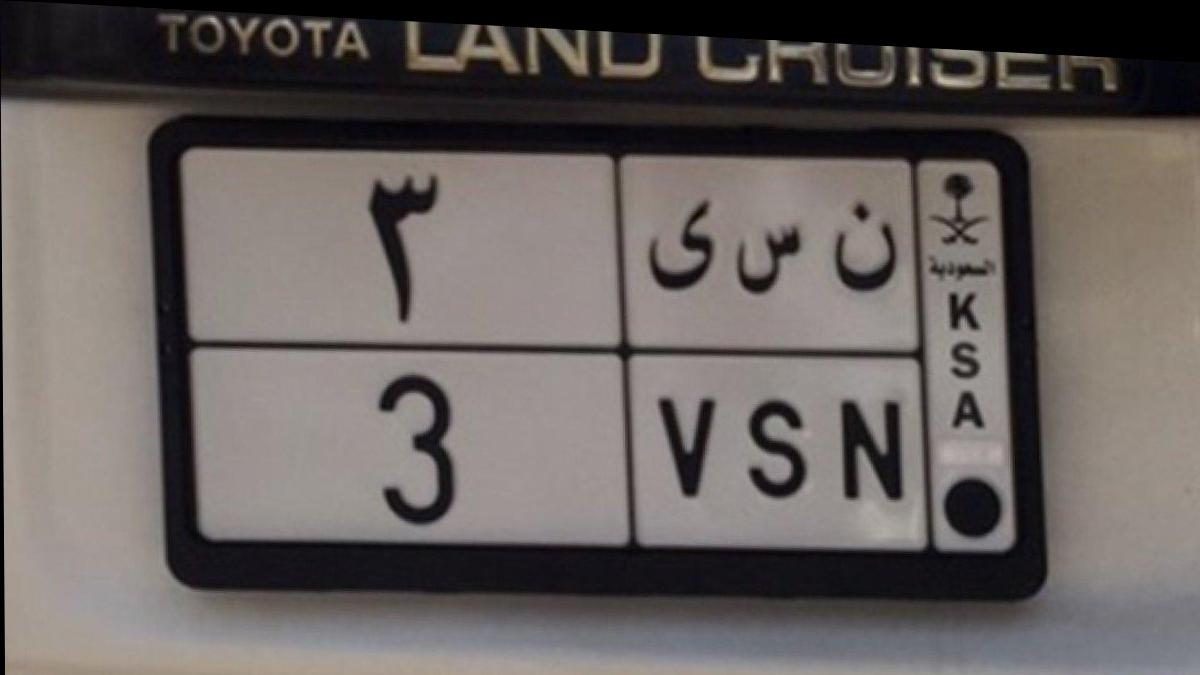License_Plate: (164, 114, 1063, 584)
